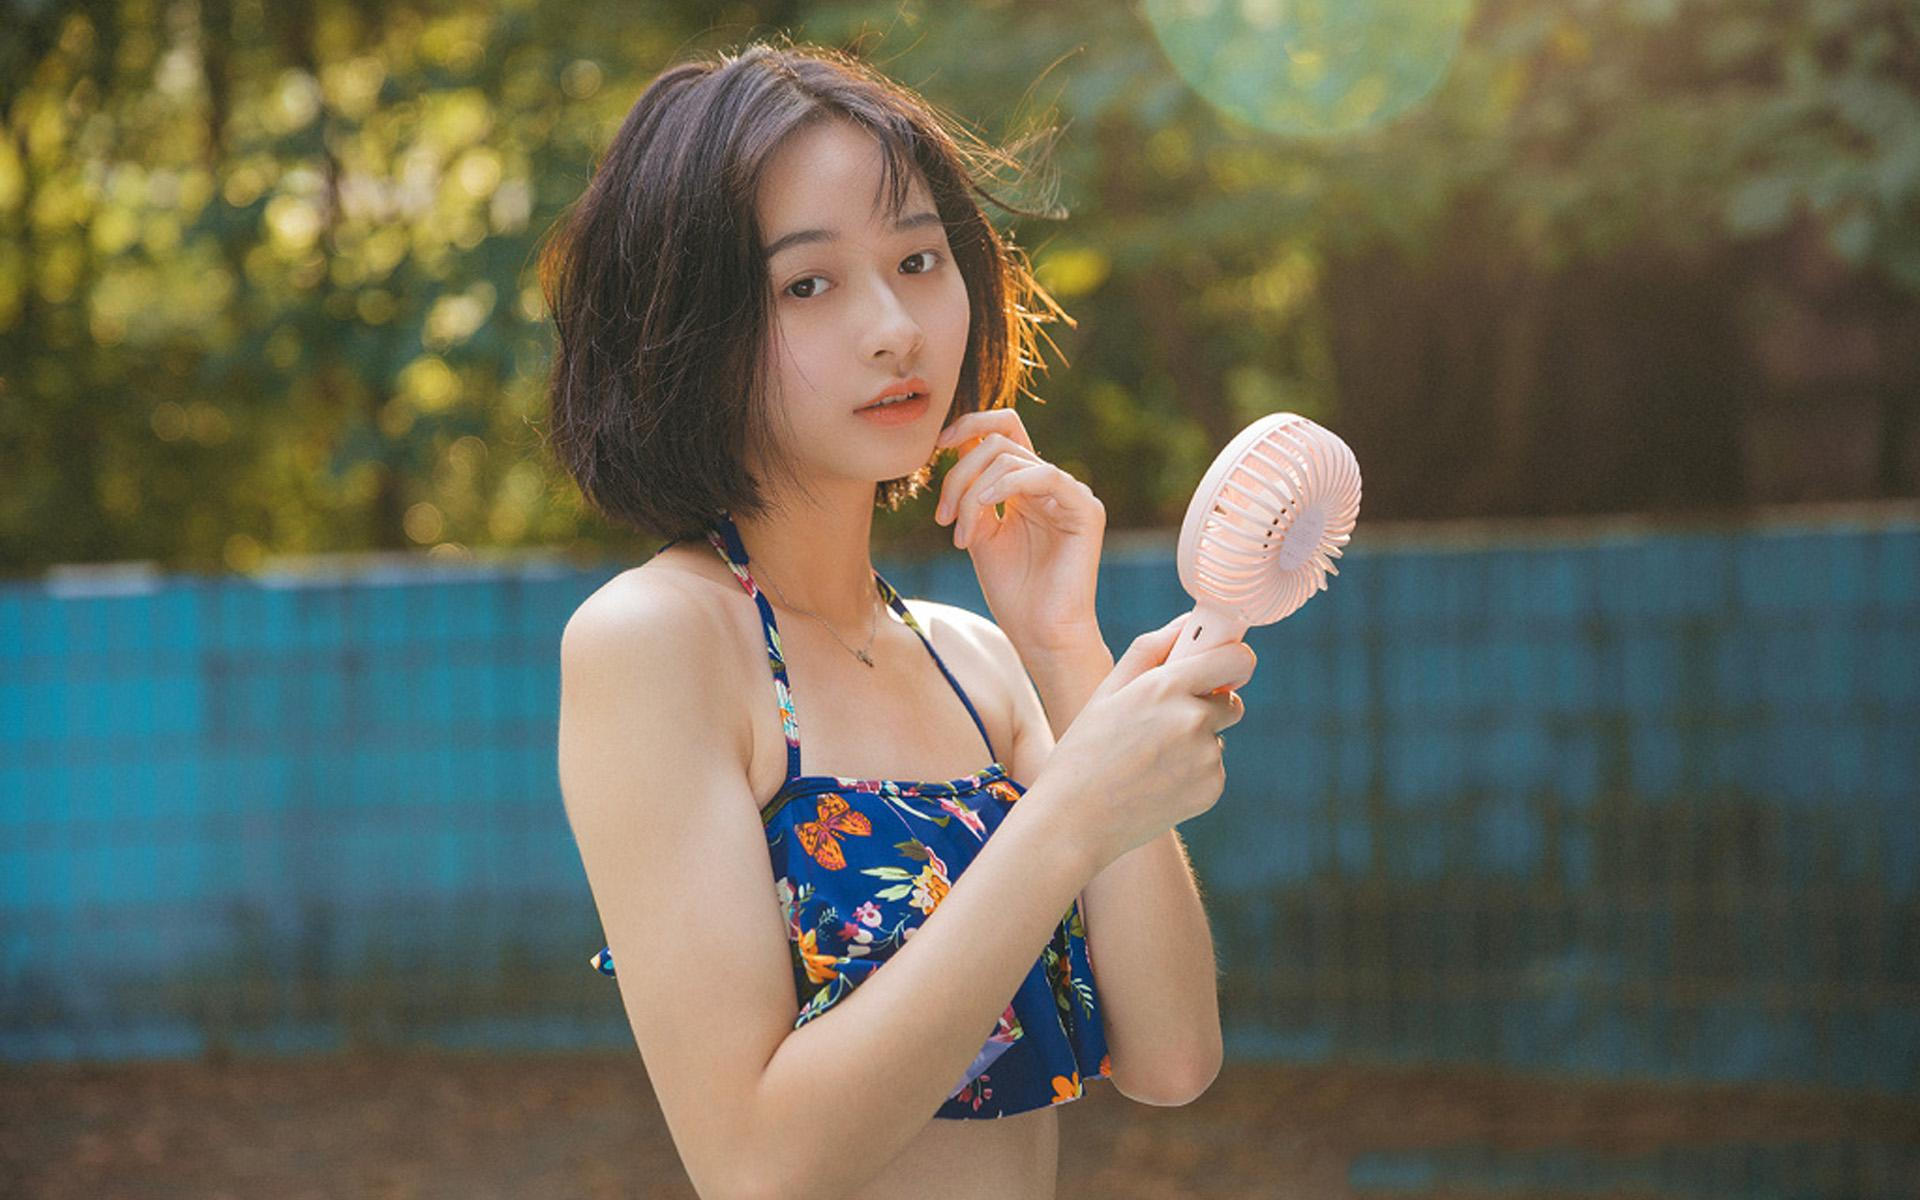person: (518, 122, 1472, 1200)
